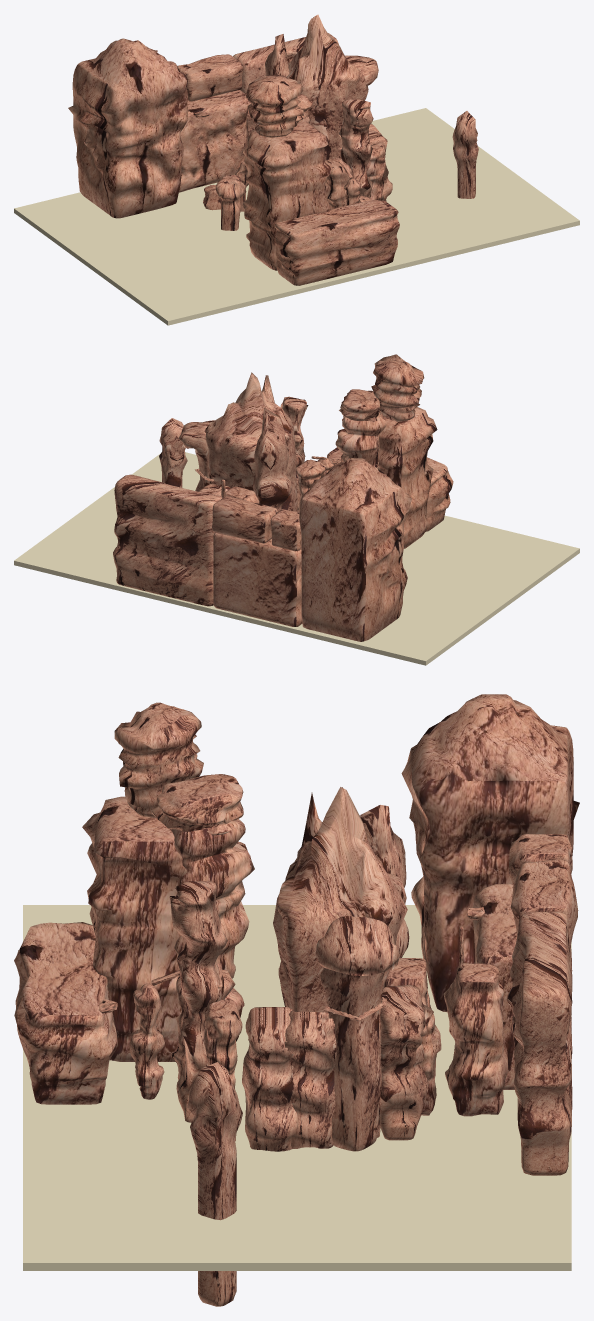
The model's file is env_level02_canyonUpperV3.fbx.
The picture shows the model from 3 angles, top to bottom: view 1: azimuth 30°, elevation 25°; view 2: azimuth 150°, elevation 25°; view 3: azimuth 270°, elevation 25°; orthographic projection. The views are drawn at different scales.
Visible parts, largest first — view 1: ground, rockwall_a00, rockwall_c03, rockwall_c02, rockwall_b09, rockwall_a04, rockwall_c04, rockwall_b07, rockwall_a02, rockwall_b03a, rockwall_a03, rockwall_a09b (+5 smaller); view 2: ground, rockwall_a00, rockwall_a03, rockwall_a04, rockwall_b09, rockwall_c03, rockwall_b09a, rockwall_c04, rockwall_a02, rockwall_c07, rockwall_b03a, rockwall_c02 (+5 smaller); view 3: ground, rockwall_a00, rockwall_c03, rockwall_b09, rockwall_c02, rockwall_a03, rockwall_b03, rockwall_a05, rockwall_b03a, rockwall_b07, rockwall_c04, rockwall_b05 (+12 smaller).
Boxes of the visible parts, box(x1,y1,x2,y2) form: ground: box(14, 108, 579, 325); rockwall_a00: box(68, 38, 188, 218); rockwall_c03: box(242, 121, 332, 270); rockwall_c02: box(275, 200, 399, 285); rockwall_b09: box(287, 14, 366, 202); rockwall_a04: box(179, 90, 251, 192); rockwall_c04: box(245, 74, 303, 137); rockwall_b07: box(338, 99, 373, 202); rockwall_a02: box(177, 54, 243, 101); rockwall_b03a: box(452, 111, 478, 198); rockwall_a03: box(233, 33, 338, 136); rockwall_a09b: box(215, 175, 246, 230); ground: box(14, 452, 579, 665); rockwall_a00: box(299, 458, 411, 641); rockwall_a03: box(113, 474, 222, 606); rockwall_a04: box(213, 532, 302, 626); rockwall_b09: box(204, 372, 297, 511); rockwall_c03: box(376, 407, 437, 548); rockwall_b09a: box(252, 408, 291, 511); rockwall_c04: box(371, 354, 424, 421); rockwall_a02: box(212, 496, 277, 543); rockwall_c07: box(335, 413, 386, 468); rockwall_b03a: box(159, 418, 187, 487); rockwall_c02: box(327, 447, 453, 531); ground: box(23, 905, 571, 1270); rockwall_a00: box(401, 694, 579, 1012); rockwall_c03: box(82, 796, 187, 1061); rockwall_b09: box(273, 787, 407, 1137); rockwall_c02: box(14, 922, 117, 1104); rockwall_a03: box(507, 912, 572, 1175); rockwall_b03: box(315, 916, 399, 1151); rockwall_a05: box(443, 963, 507, 1116); rockwall_b03a: box(187, 1062, 242, 1306); rockwall_b07: box(169, 881, 227, 1122); rockwall_c04: box(114, 702, 203, 818); rockwall_b05: box(242, 1007, 298, 1151).
Size of the model in its own units: 24499 by 14299 by 16369.
